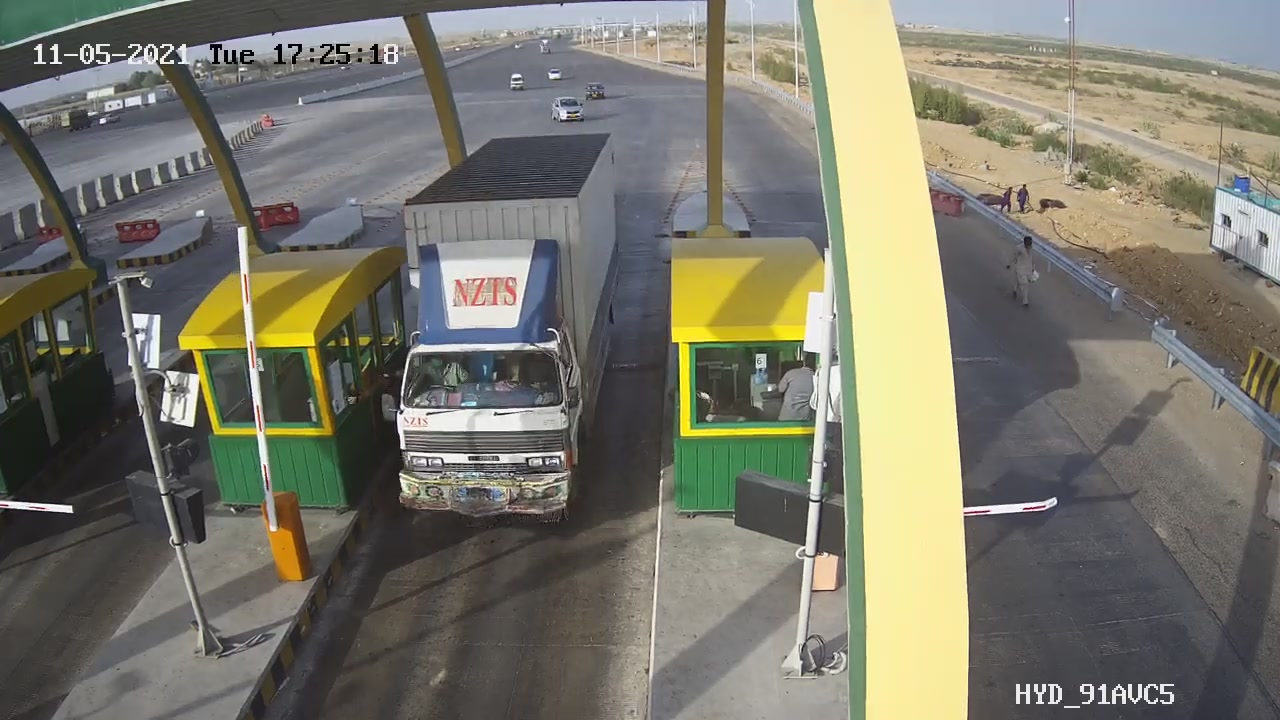F5: (366, 116, 644, 542)
